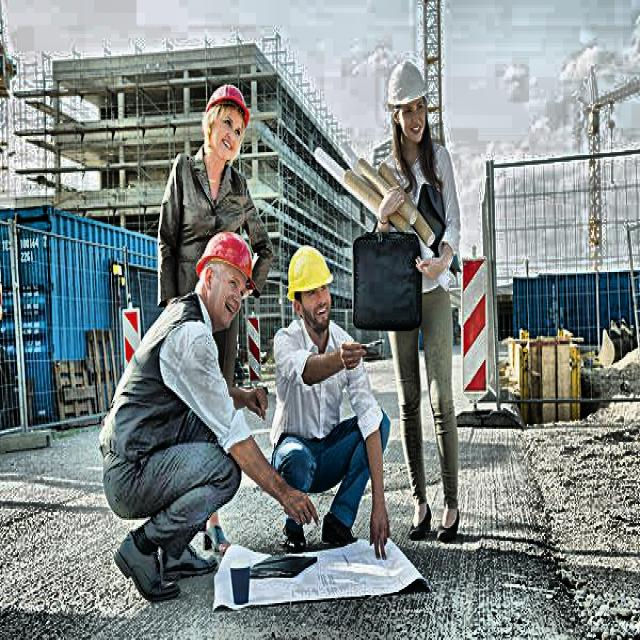helmet: (187, 216, 266, 334), (383, 38, 435, 162), (282, 240, 337, 339), (193, 78, 253, 165)
